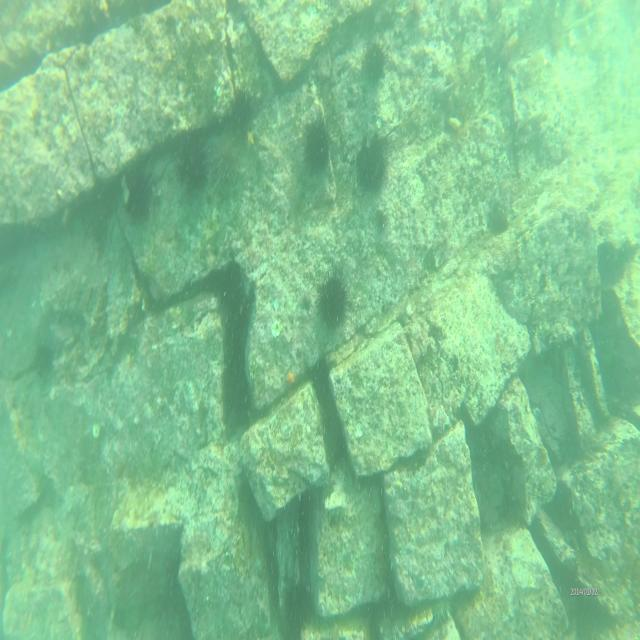echinus: (299, 120, 335, 177), (360, 140, 392, 189), (180, 136, 208, 188), (322, 272, 347, 324), (126, 168, 152, 217), (363, 38, 389, 86), (215, 149, 242, 189), (230, 93, 254, 133), (32, 347, 54, 378)
